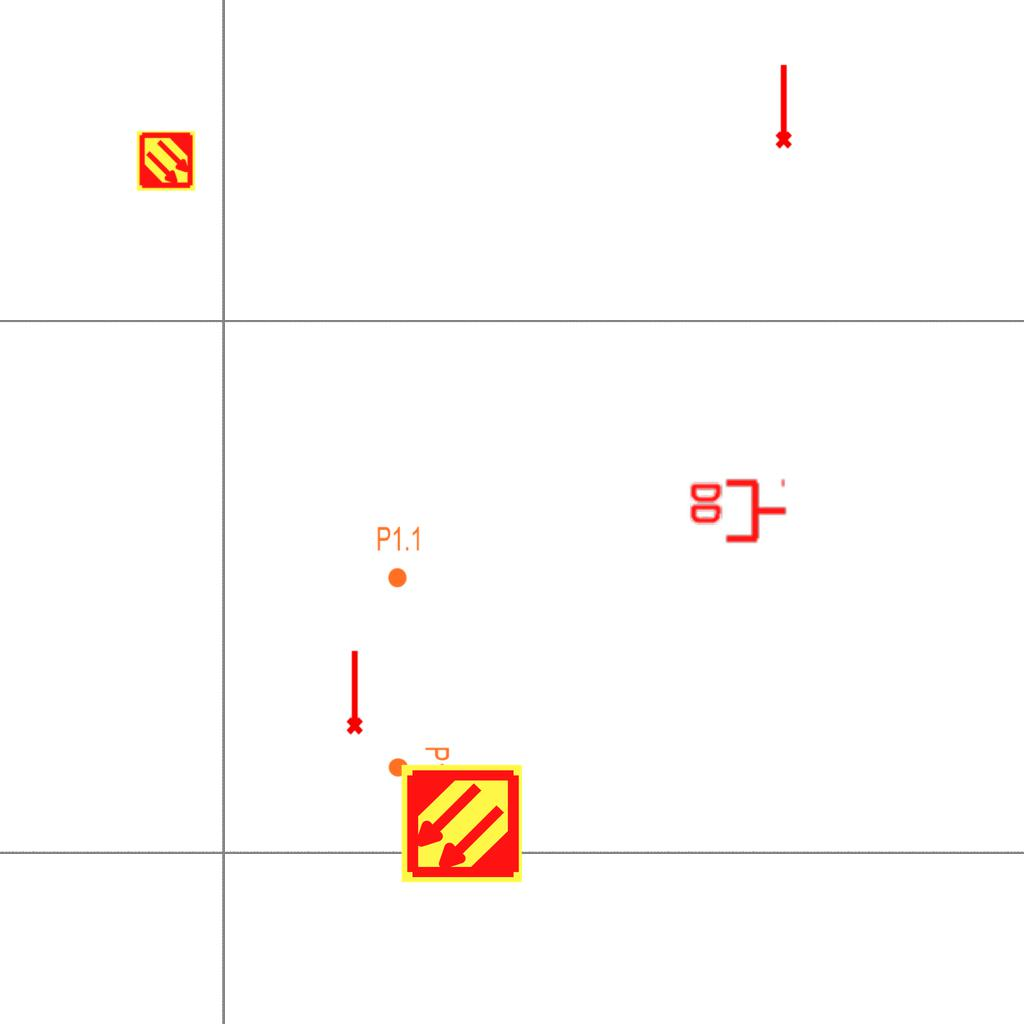ASR_Ansaugoeffnung: (342, 648, 365, 736), (771, 62, 794, 150)
ASR_Ansaugrauchmelder: (399, 761, 524, 886), (135, 130, 197, 192)
Datenanschluss_zweifach: (686, 478, 789, 547)
Downlight_LED_Einbauleuchten_Flur: (376, 525, 422, 589), (387, 746, 451, 792)
